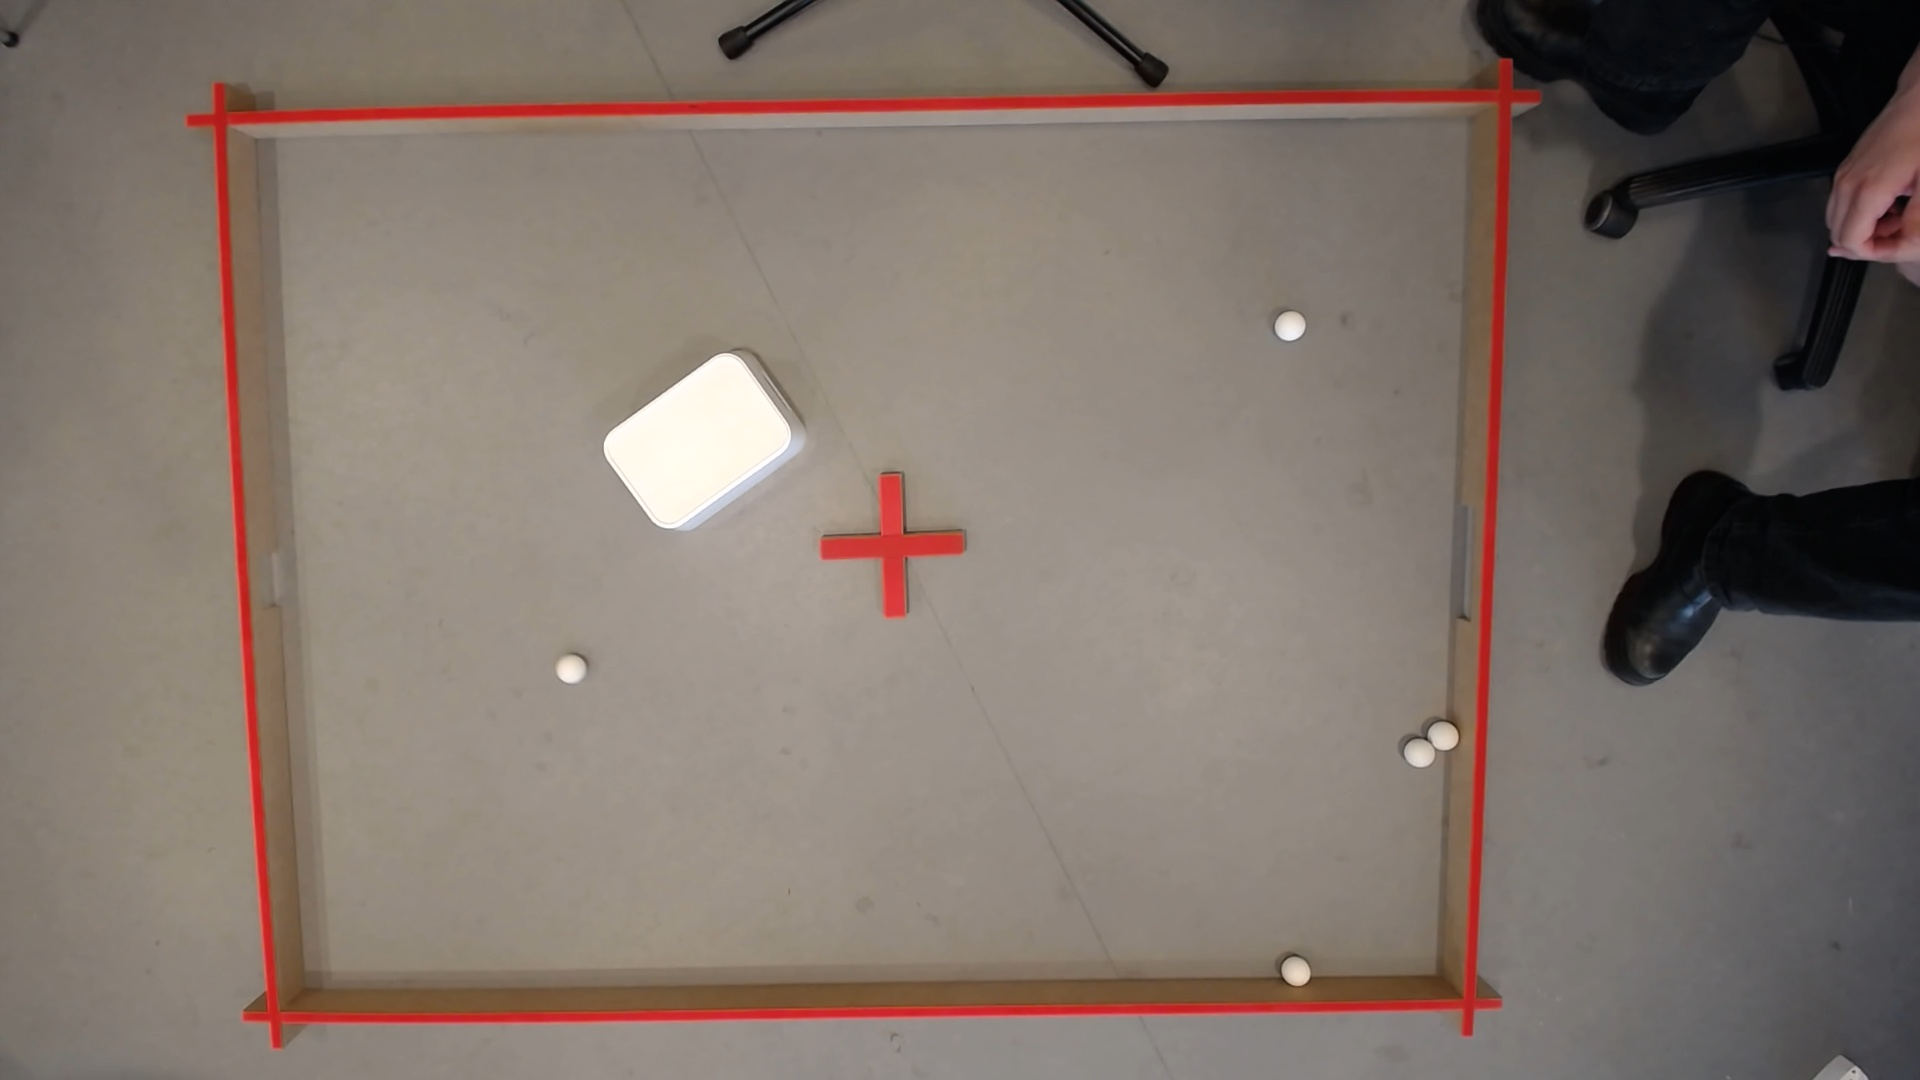balls: (592, 343, 804, 545), (1273, 310, 1308, 345), (553, 654, 585, 686), (1282, 957, 1312, 988), (1407, 748, 1431, 766)
car: (1431, 731, 1453, 749)
